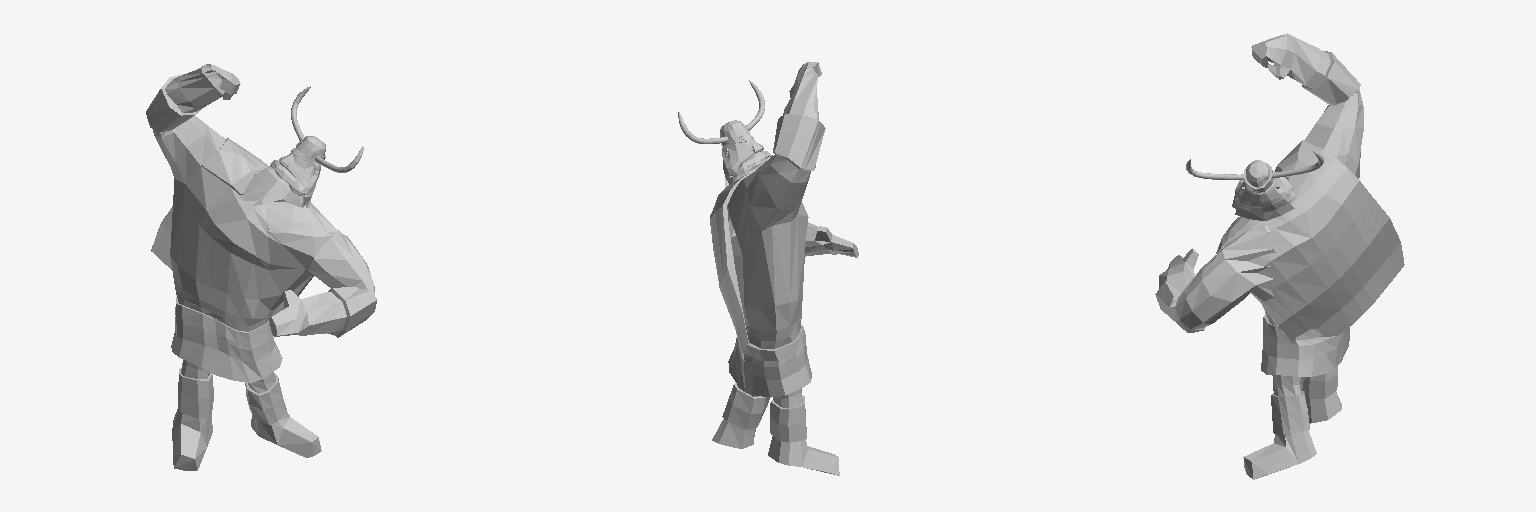
Rendered from vikingoCelebracionobj_000532.obj.
3 renders of one model, left to right at view 1: azimuth 30°, elevation 25°; view 2: azimuth 150°, elevation 25°; view 3: azimuth 270°, elevation 25°, orthographic.
Parts seen in each view (by area): view 1: Vikingo; view 2: Vikingo; view 3: Vikingo.
Boxes of the visible parts, box(x1,y1,x2,y2) form: Vikingo: box(146, 64, 376, 470); Vikingo: box(678, 62, 858, 475); Vikingo: box(1155, 33, 1404, 479).
Bounding box in the file's own units: 3.18 × 7.9 × 4.47.